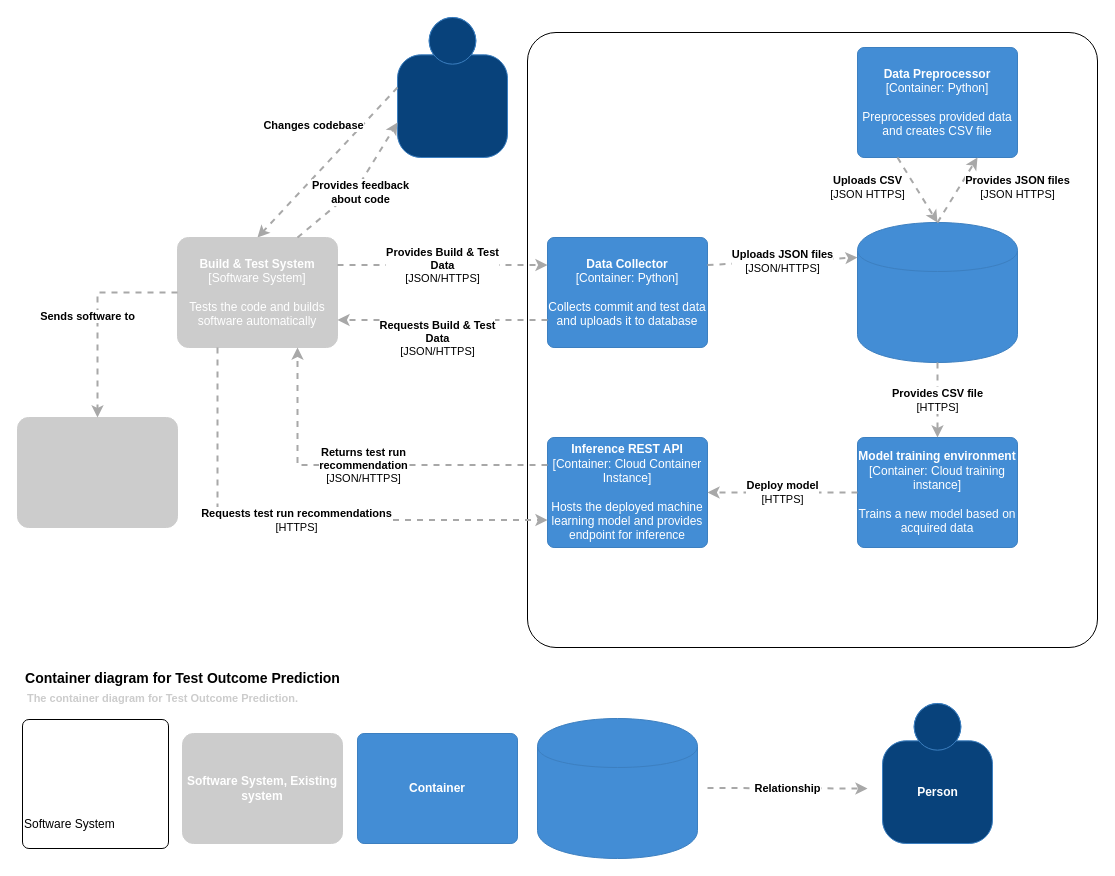
The diagram is 1115 pixels wide and 876 high, and some of its shapes have lost their labels. Here are the shapes that lost their labels. From the top down, the box of each, then its label:
(396, 16, 508, 158): Developer [Person] A software developer
(856, 222, 1018, 362): Database [Container: Object storage] Object storage with JSON files & CSV file
(526, 32, 1098, 648): Machine Learning System [Software System]
(16, 416, 178, 528): Deployment System [Software System] Deploys built software to customer
(536, 718, 698, 858): Container, Database
